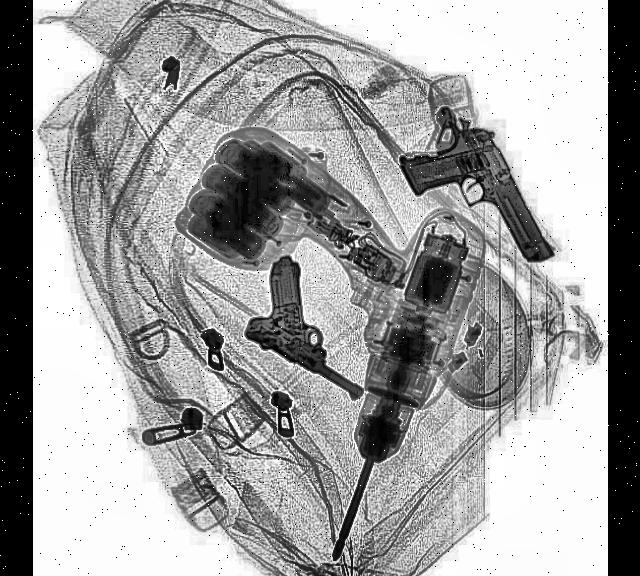Gun: (393, 100, 557, 318), (240, 250, 392, 406)
